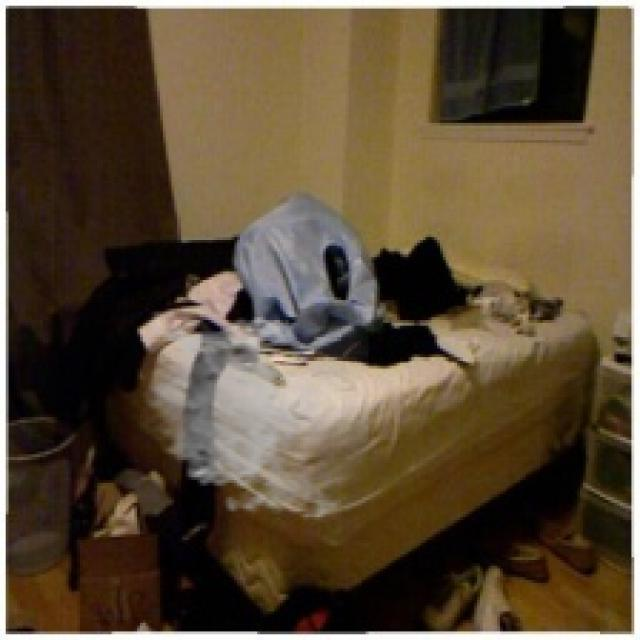Smoke: (140, 311, 369, 526)
